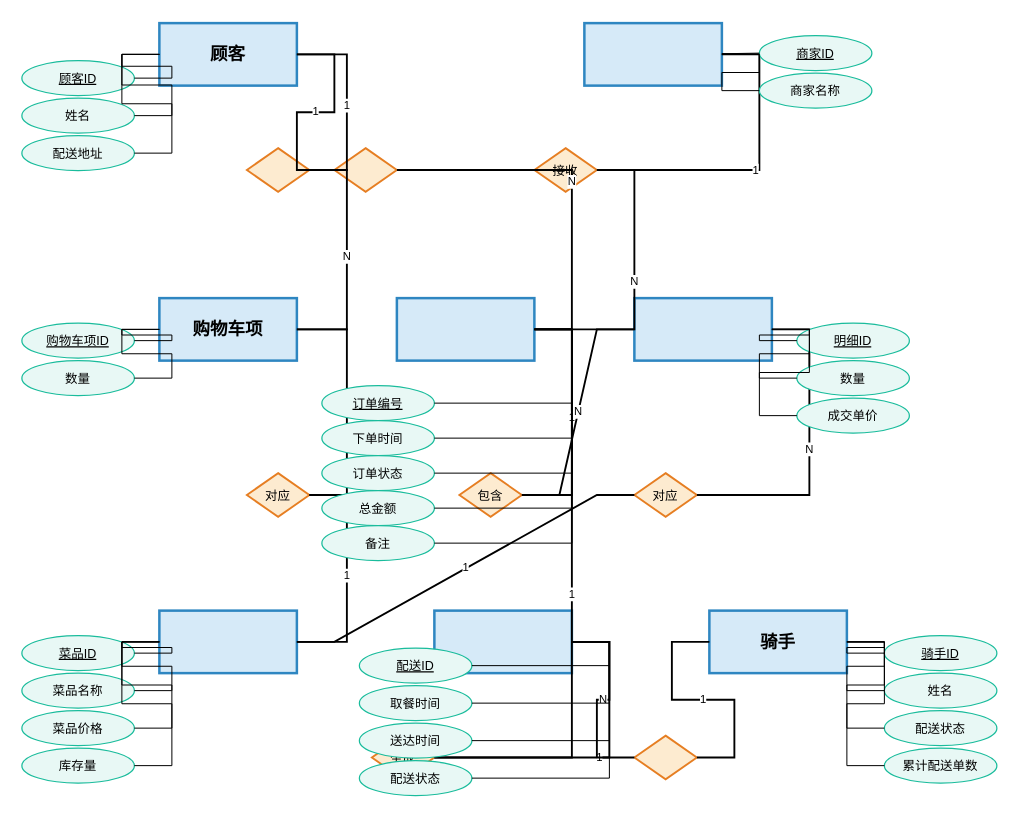
Some shapes in this 1019 by 818 pixel diagram are drawn without their labels. Each missing label, with the centre of its shape:
加入: point 277,169
商家: point 652,53
执行: point 665,757
提交: point 365,169
菜品: point 228,641
订单: point 465,328
订单明细: point 702,328
配送: point 502,641
